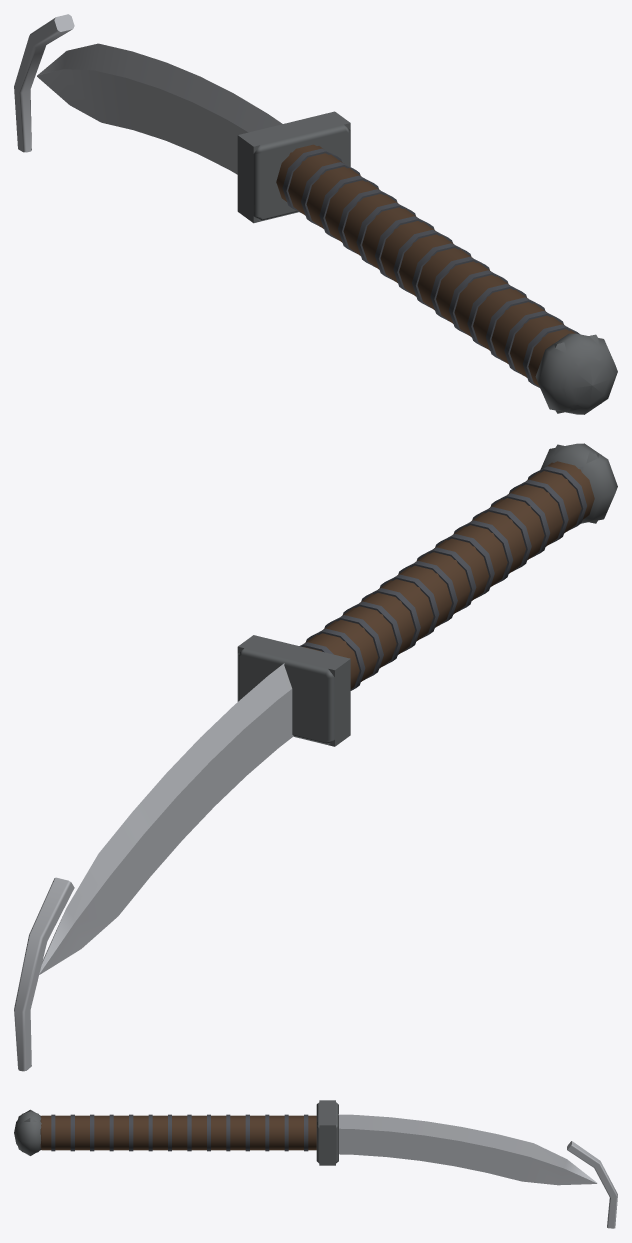
Rendered from m_hook.glb.
3 renders of one model, top to bottom at view 1: azimuth 30°, elevation 25°; view 2: azimuth 150°, elevation 25°; view 3: azimuth 270°, elevation 25°, orthographic. The views are drawn at different scales.
Visible parts, largest first — view 1: L0, L1; view 2: L0, L1; view 3: L0, L1.
Part boxes in pixels (x1,y1,x2,y2): L0: (14,14,617,414); L1: (237,111,614,413); L0: (14,443,617,1071); L1: (237,444,598,746); L0: (14,1102,617,1228); L1: (18,1100,335,1165).
Bounding box in the file's own units: 0.0425 × 0.0921 × 0.4348.
